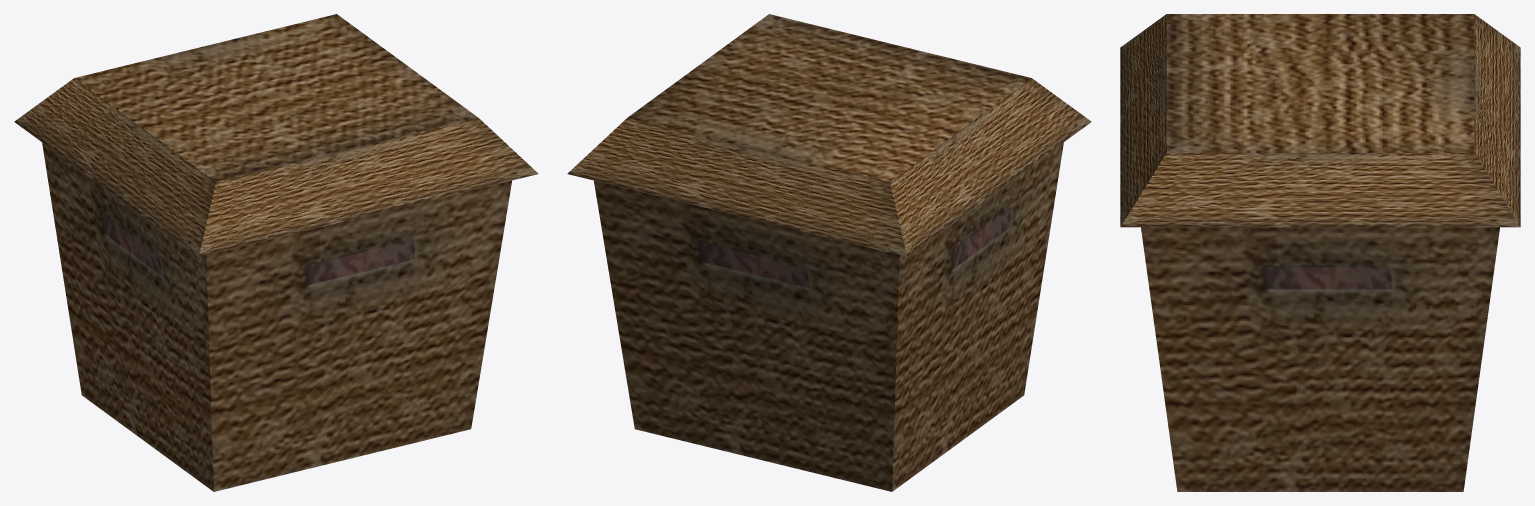
File: basket7.obj
3 renders of one model, left to right at view 1: azimuth 30°, elevation 25°; view 2: azimuth 150°, elevation 25°; view 3: azimuth 270°, elevation 25°, orthographic. The views are drawn at different scales.
Parts seen in each view (by area): view 1: basket7; view 2: basket7; view 3: basket7.
Boxes of the visible parts, x1,y1,x2,y2 form: basket7: (14,14,538,491); basket7: (567,14,1091,491); basket7: (1120,14,1520,491).
Size of the model in its own units: 17.84 by 15.75 by 16.78.
Materials: 1 (1 with a texture image).
